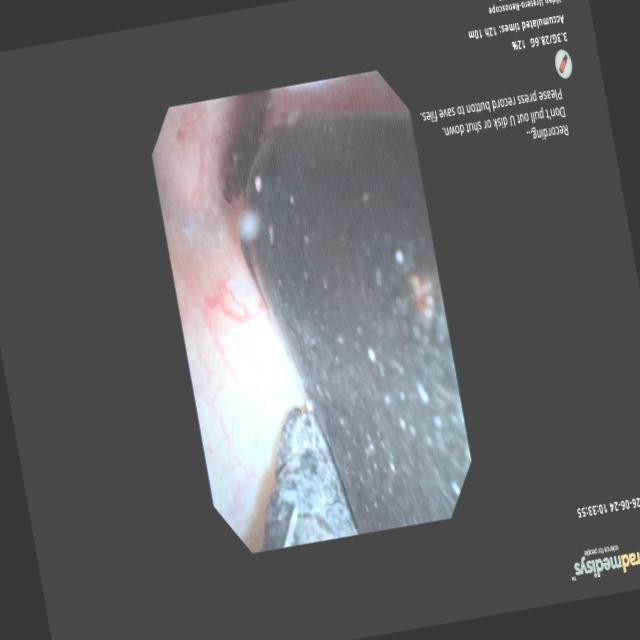stone-new: (242, 112, 471, 532), (264, 409, 357, 550), (222, 91, 270, 203)
